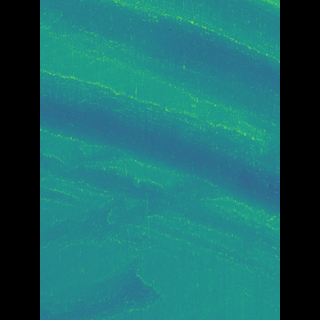Loch: (69, 0, 249, 245)
